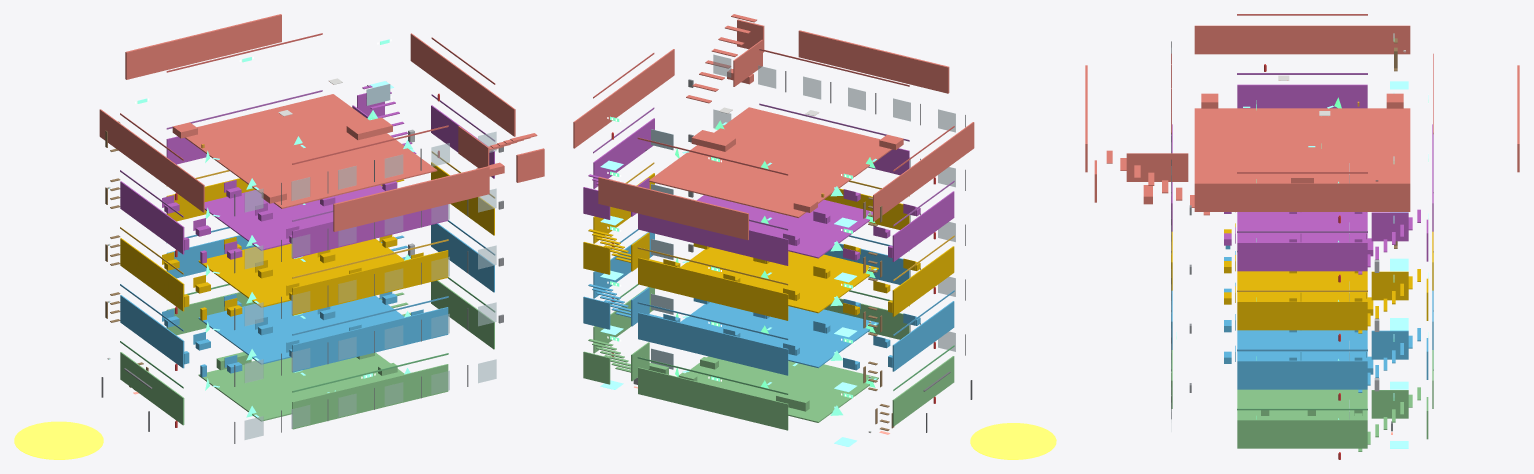
Rendered from OfficeBuilding_Final.glb.
3 renders of one model, left to right at view 1: azimuth 30°, elevation 25°; view 2: azimuth 150°, elevation 25°; view 3: azimuth 270°, elevation 25°, orthographic. The views are drawn at different scales.
Visible parts, largest first — view 1: Floor_05_Executive, Floor_02_Office, Floor_01_Lobby, Floor_03_Office, Floor_04_Office, EVAC_AssemblyPoint; view 2: Floor_05_Executive, Floor_02_Office, Floor_03_Office, Floor_01_Lobby, Floor_04_Office, EVAC_AssemblyPoint; view 3: Floor_05_Executive, Floor_04_Office, Floor_02_Office, Floor_03_Office, Floor_01_Lobby.
Boxes of the visible parts, x1,y1,x2,y2 form: Floor_05_Executive: [99, 14, 544, 231]; Floor_02_Office: [120, 223, 494, 377]; Floor_01_Lobby: [120, 280, 494, 429]; Floor_03_Office: [120, 162, 494, 320]; Floor_04_Office: [120, 85, 494, 263]; EVAC_AssemblyPoint: [14, 421, 103, 459]; Floor_05_Executive: [573, 14, 974, 240]; Floor_02_Office: [583, 232, 954, 375]; Floor_03_Office: [583, 173, 954, 320]; Floor_01_Lobby: [583, 287, 954, 430]; Floor_04_Office: [583, 118, 954, 265]; EVAC_AssemblyPoint: [970, 423, 1056, 459]; Floor_05_Executive: [1085, 25, 1519, 215]; Floor_04_Office: [1171, 84, 1433, 274]; Floor_02_Office: [1171, 245, 1433, 392]; Floor_03_Office: [1171, 223, 1433, 333]; Floor_01_Lobby: [1171, 350, 1433, 451].
Size of the model in its own units: 2854 by 1740 by 2328.
